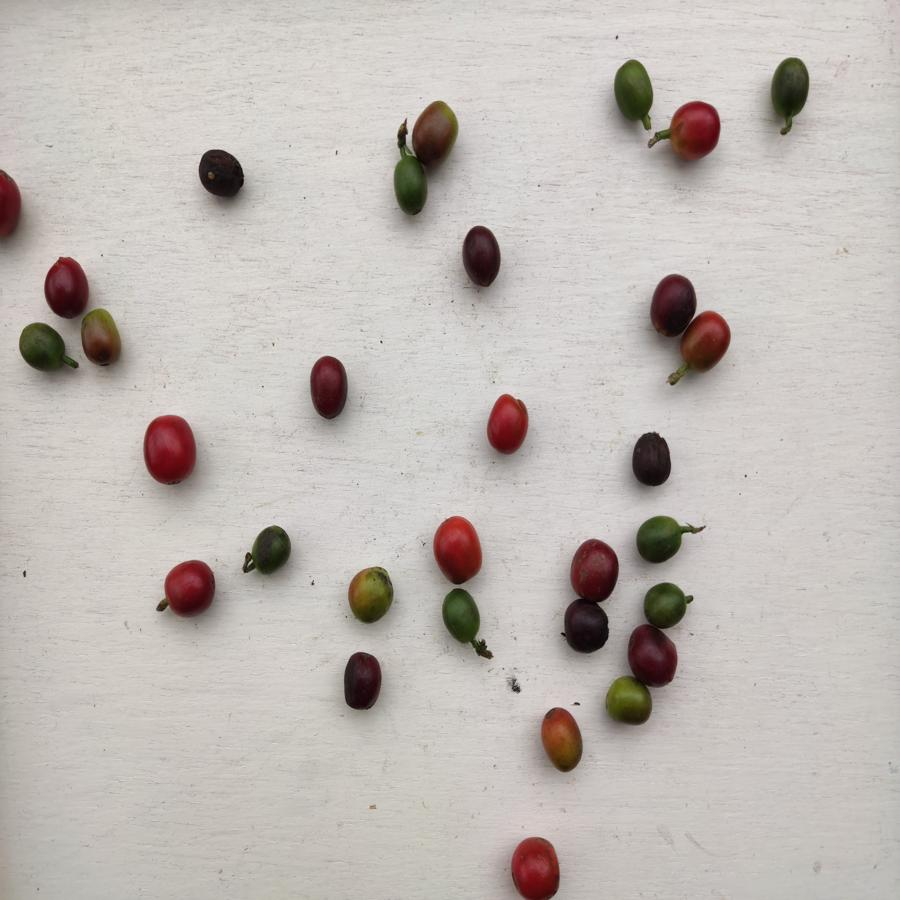Inmaduro: (613, 58, 658, 122), (16, 322, 67, 377), (768, 58, 811, 121), (635, 515, 684, 565), (248, 521, 292, 576), (442, 588, 483, 644), (393, 157, 429, 218), (644, 582, 689, 629)
Maduro: (143, 415, 198, 488), (510, 834, 566, 900), (433, 514, 484, 583), (668, 100, 723, 163), (163, 558, 217, 618), (483, 393, 529, 458), (688, 308, 733, 372)
Pinton: (344, 564, 395, 628), (411, 99, 460, 165), (538, 705, 585, 773), (81, 308, 123, 372), (603, 678, 653, 728)
Sobremaduro: (648, 274, 697, 337), (569, 538, 619, 599), (630, 625, 679, 686), (45, 256, 91, 320), (628, 430, 675, 489), (460, 224, 502, 290), (310, 354, 350, 423), (565, 597, 611, 656), (196, 149, 246, 199), (343, 653, 383, 713)
